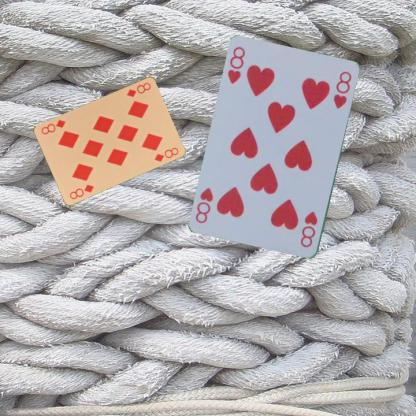8d: (124, 80, 152, 98), (67, 182, 95, 200)
8h: (224, 44, 247, 85), (297, 209, 319, 249)
